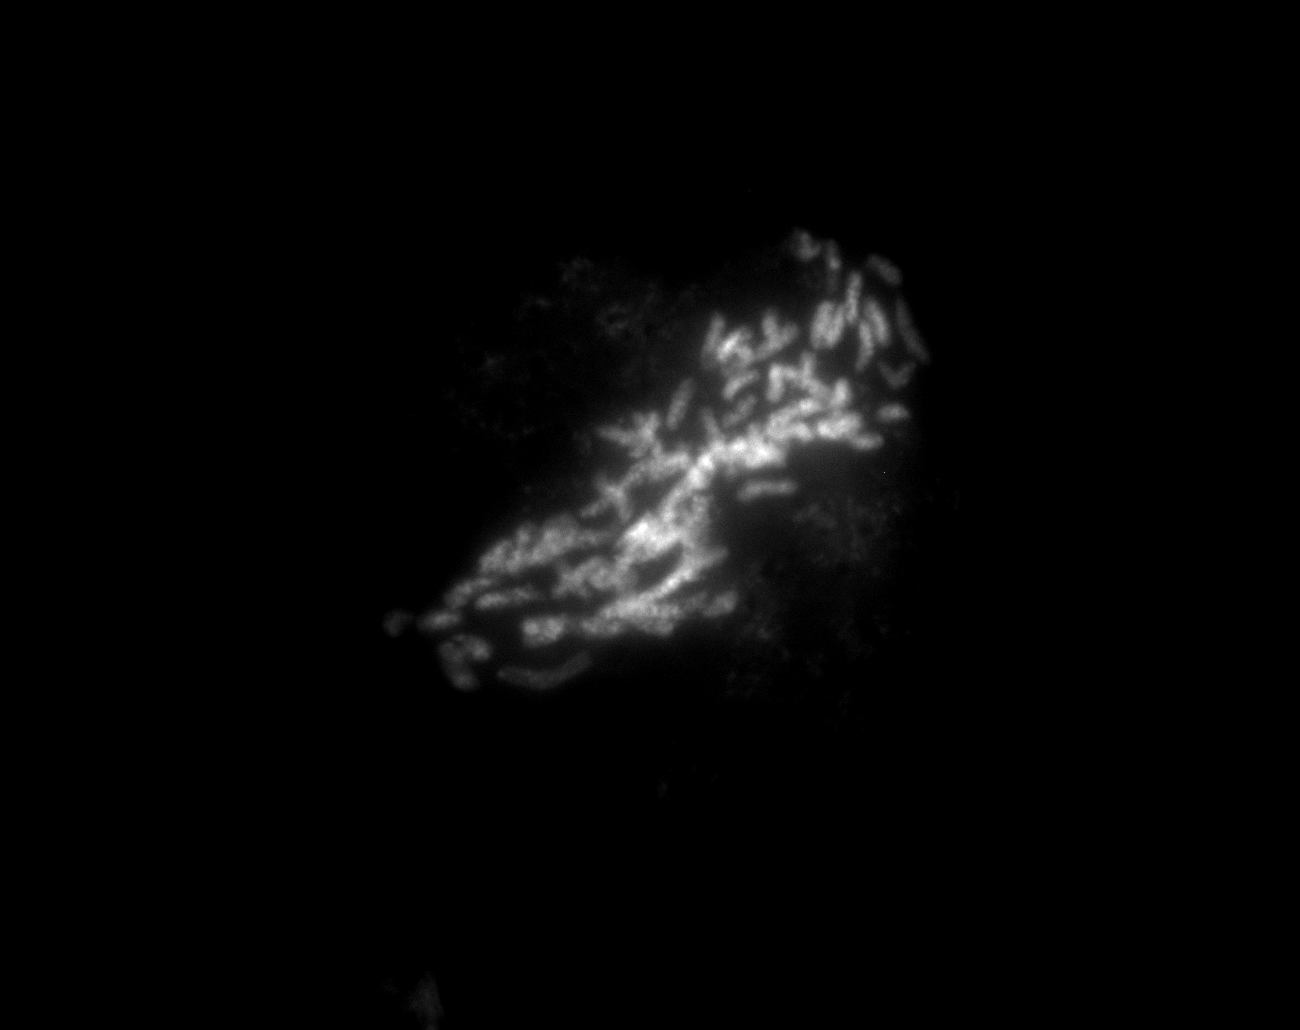Chromosomes: (341, 187, 969, 730)
